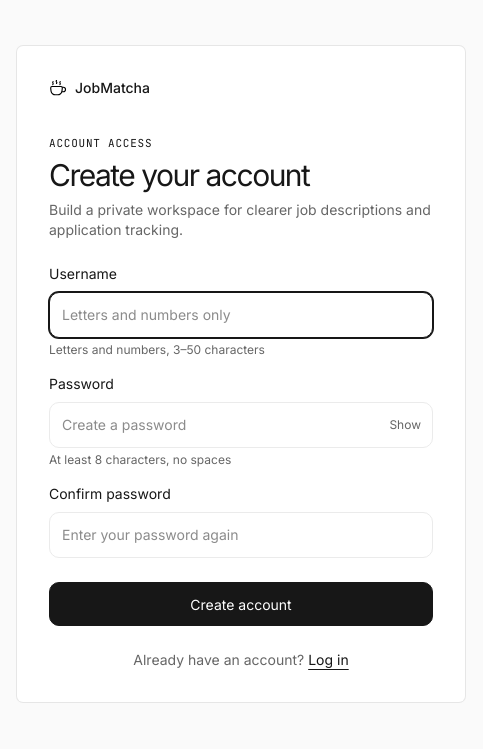
Test: authentication screens › does not submit signup when the passwords do not match
The image size is (483, 749).
Type "newuser" into the field labelled "Username Letters and numbers, 3–50 characters" at (241, 315), box [49,292,433,338]
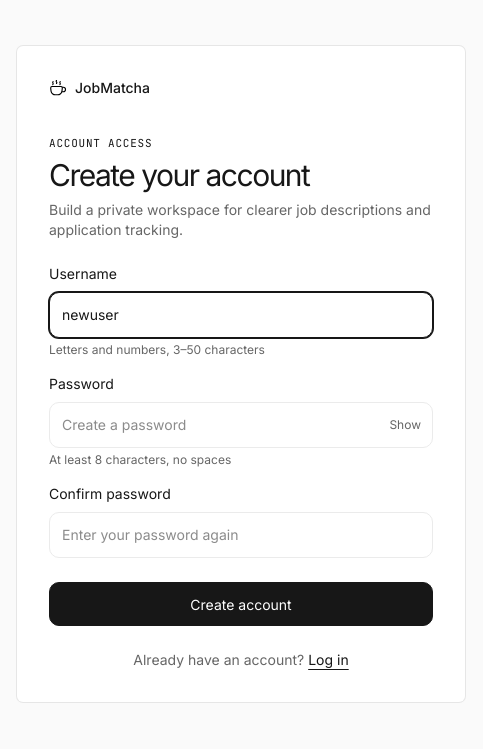
Type "Symbols!123" into the password field labelled "Password Show At least 8 characters, no spaces" at (241, 425), box [49,402,433,448]
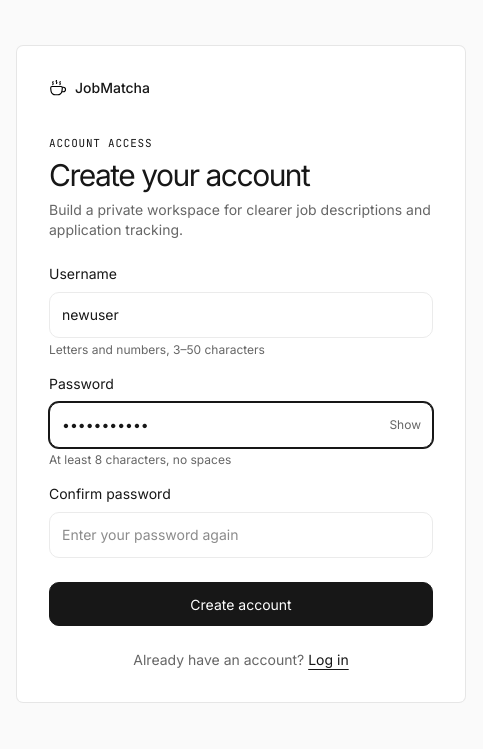
Type "Different!123" into the password field labelled "Confirm password" at (241, 535), box [49,512,433,558]
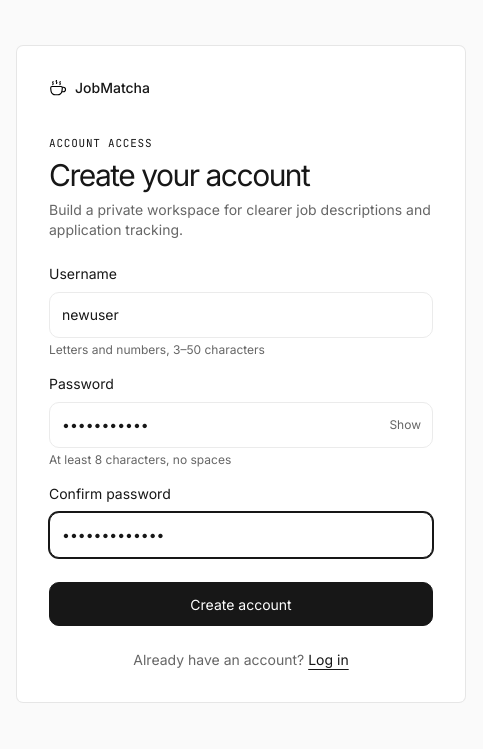
Click the button "Create account" at (241, 604), box [49,582,433,626]
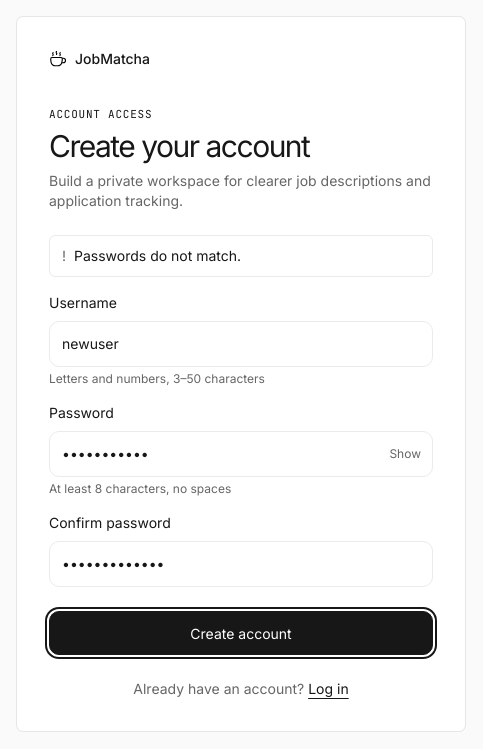
Now the message shows "Passwords do not match.", box [74,247,241,264]
